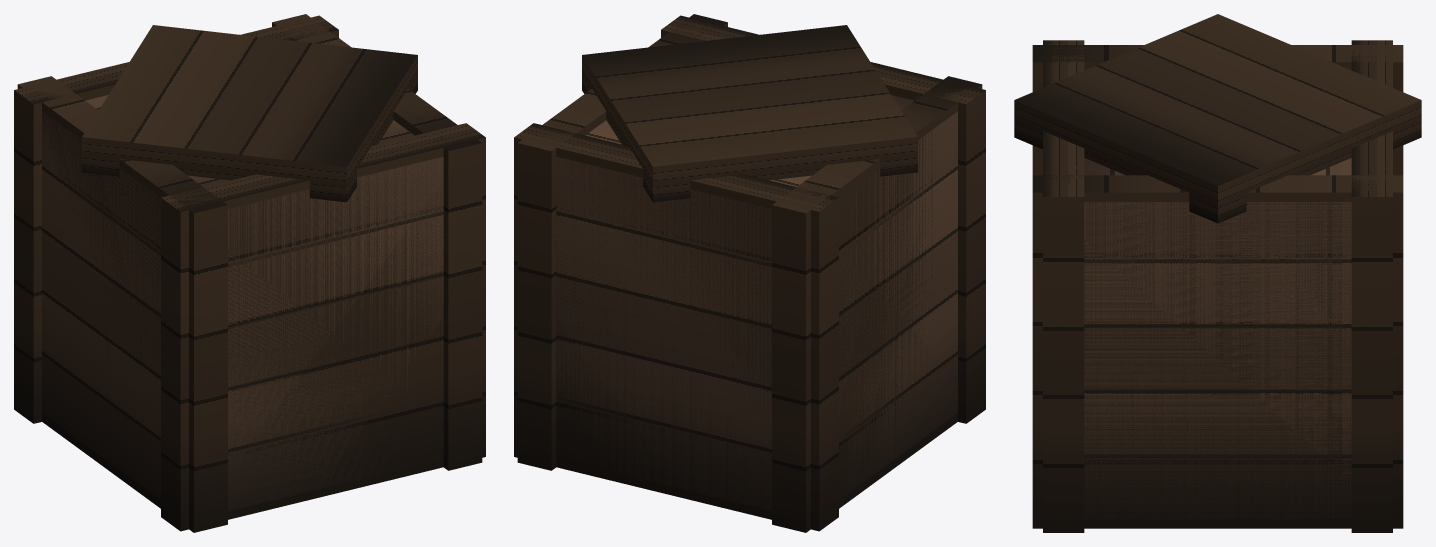
File: crate.gltf
3 views of the same model, side by side, from view 1: azimuth 30°, elevation 25°; view 2: azimuth 150°, elevation 25°; view 3: azimuth 270°, elevation 25° (orthographic). The views are drawn at different scales.
Visible parts, largest first — view 1: crate; view 2: crate; view 3: crate.
Boxes of the visible parts, <box> form: crate: <box>14,14,485,532</box>; crate: <box>514,14,985,532</box>; crate: <box>1014,14,1421,532</box>.
Size of the model in its own units: 0.396 by 0.38 by 0.396.
Materials: 1 (1 with a texture image).
